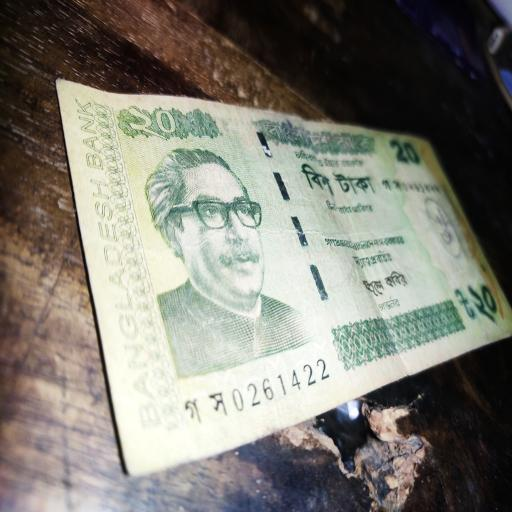20taka: (58, 78, 512, 473)
